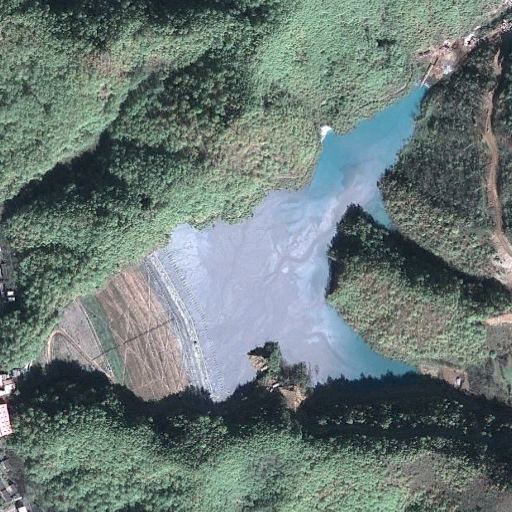tp: (53, 85, 426, 401)
